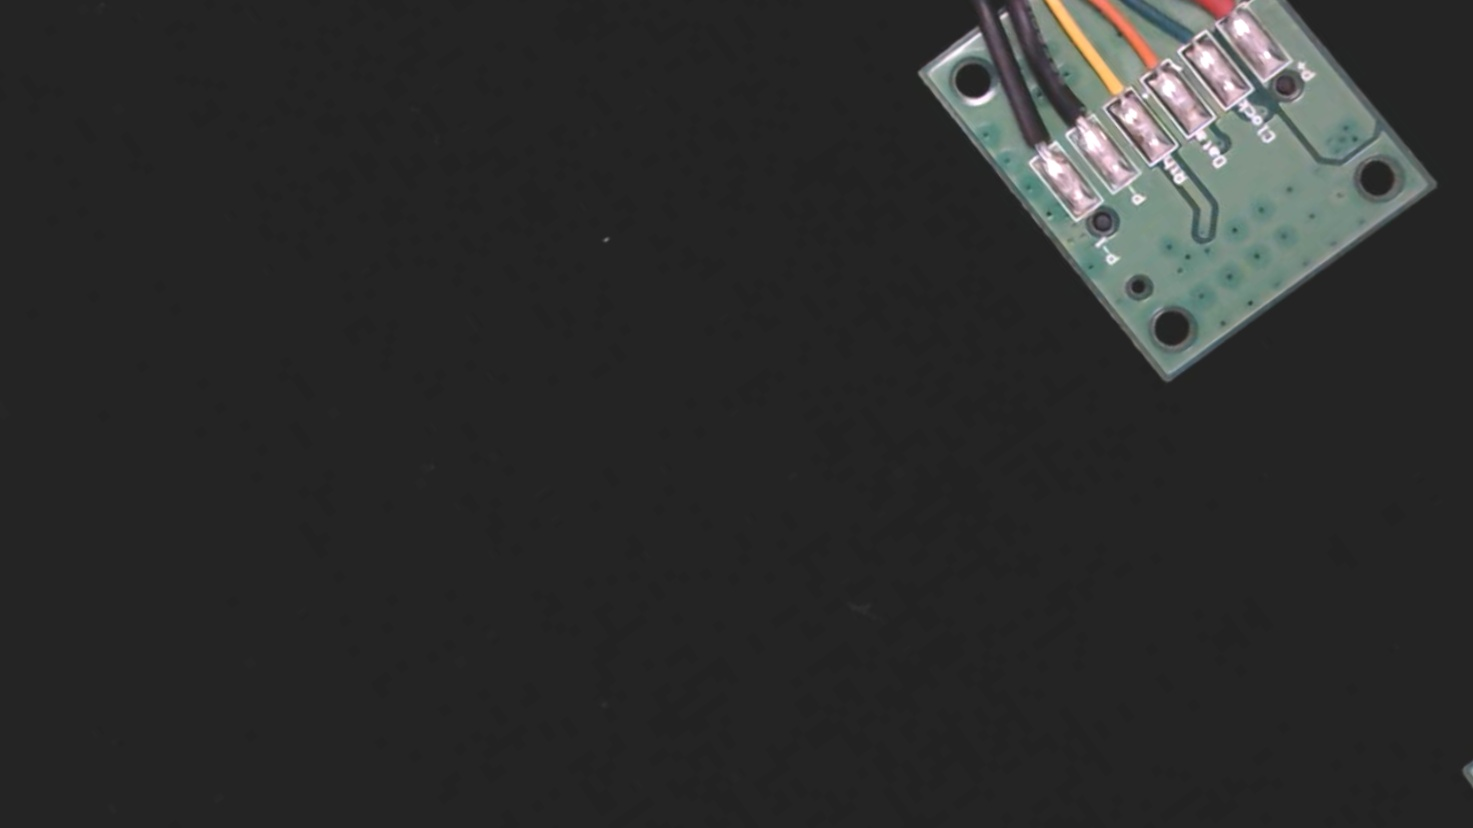Black: (1032, 67, 1111, 152)
Black1: (988, 96, 1070, 182)
Green: (1141, 0, 1225, 71)
Orange: (1100, 7, 1186, 97)
Red: (1180, 0, 1264, 43)
Yellow: (1063, 34, 1152, 128)
